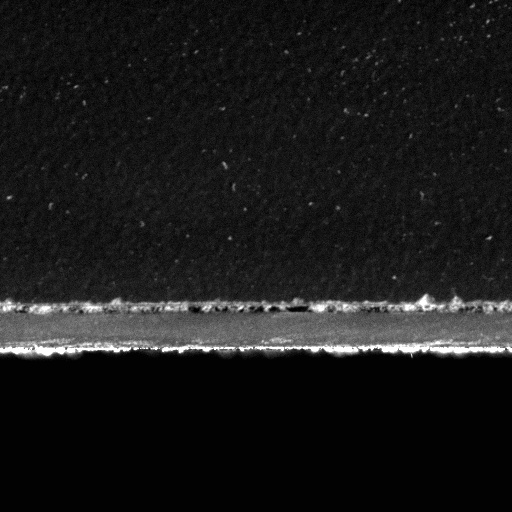jiaofeng: (183, 300, 312, 315)
